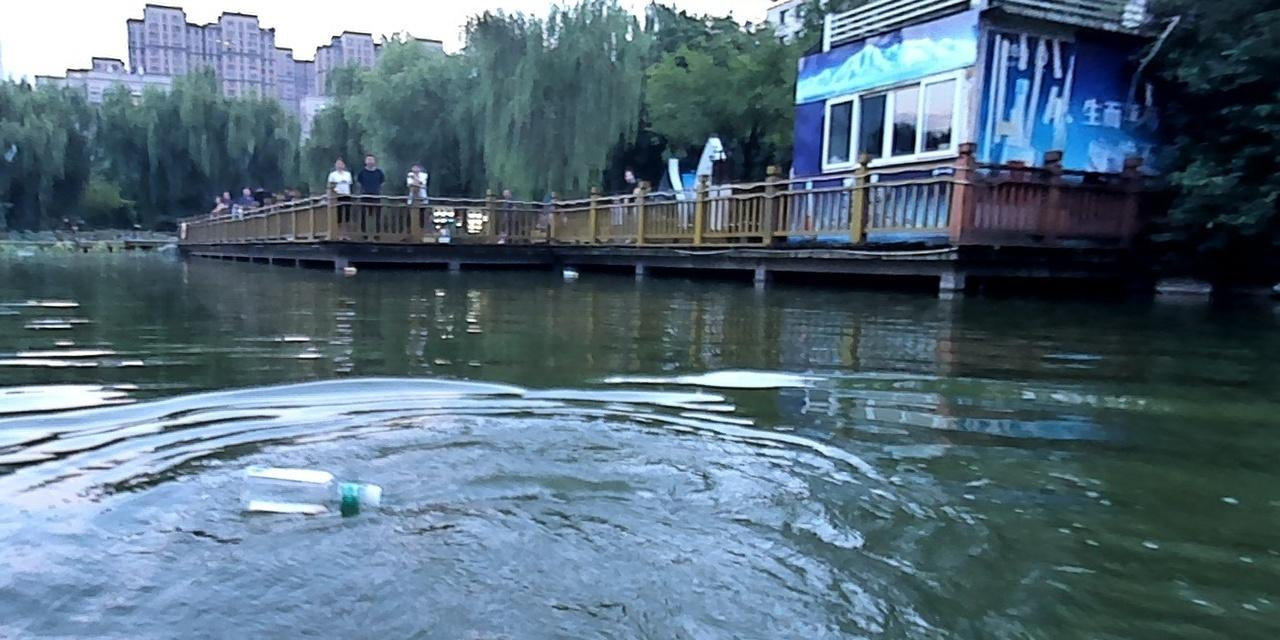bottle: (240, 465, 381, 515), (560, 267, 579, 278), (344, 265, 355, 274)
